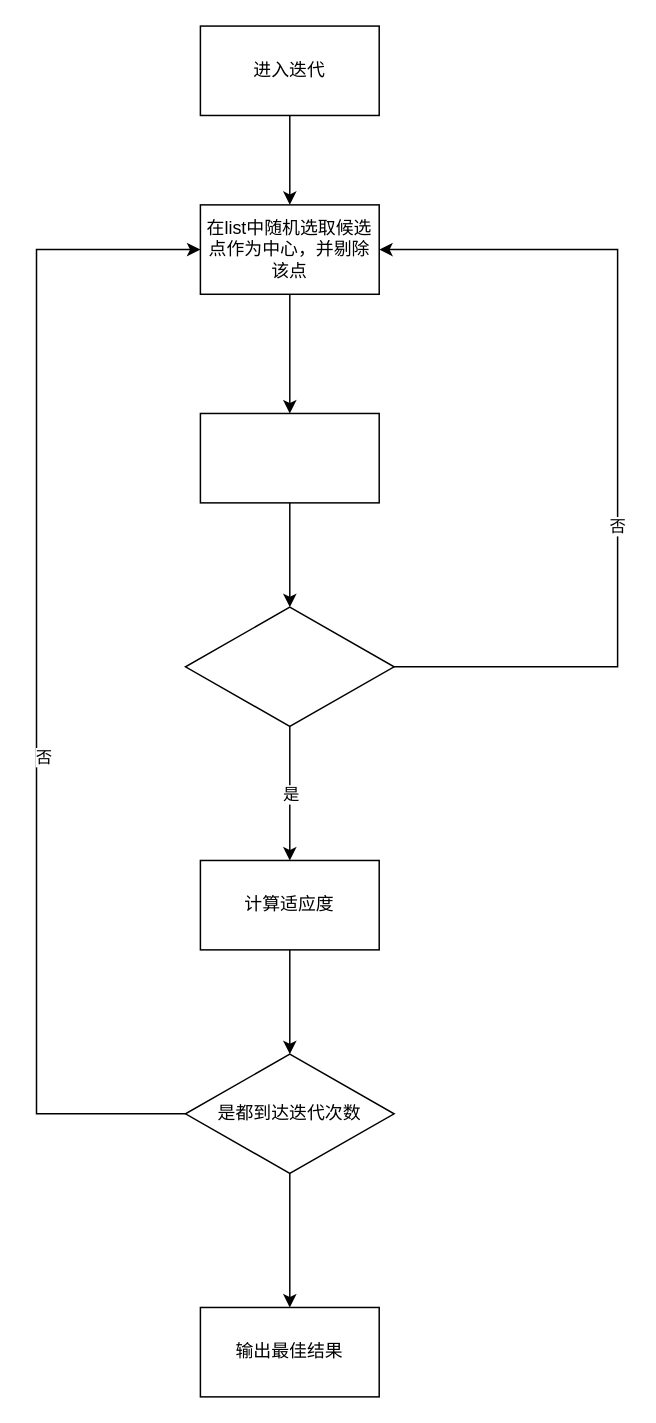
This 656x1423 diagram has some shape labels left out. The shapes that lost their labels are listed below. From the top down, each one's box as (x1, y1, x2, y2) in pixels, then its label:
(199, 412, 379, 503): 计算canopy范围，打标记
(184, 606, 394, 726): 判断list是否为空
